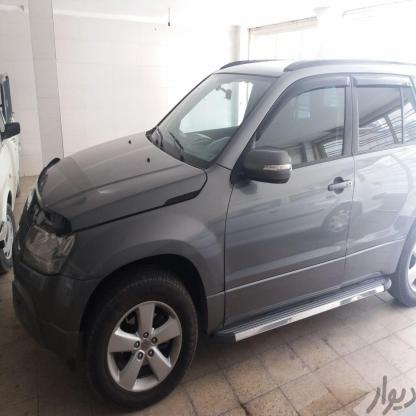Car: (5, 51, 416, 391), (0, 63, 24, 264)
